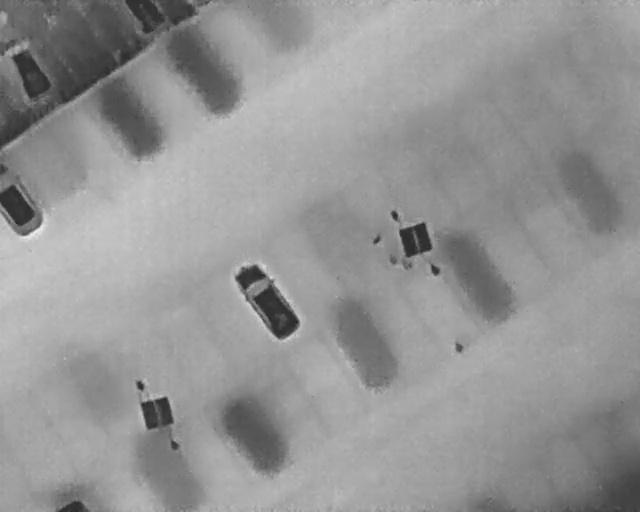Car: (225, 253, 309, 346), (0, 35, 56, 103), (0, 159, 44, 238), (122, 0, 167, 34), (57, 498, 88, 510)
